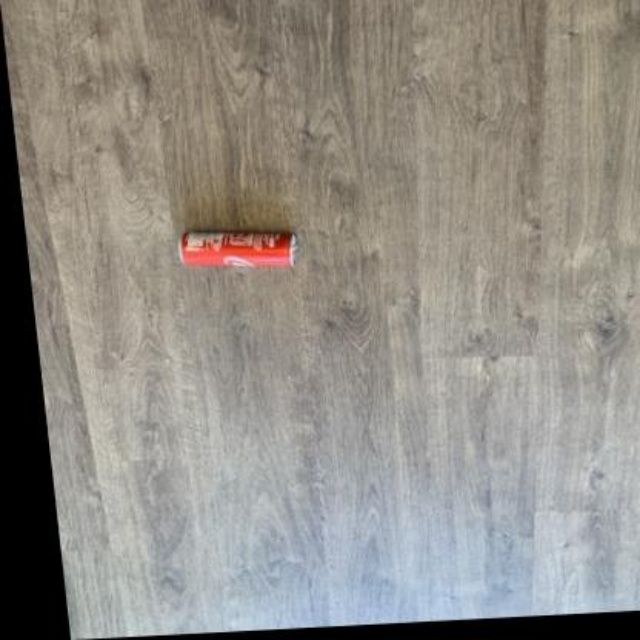trash: (180, 232, 294, 266)
